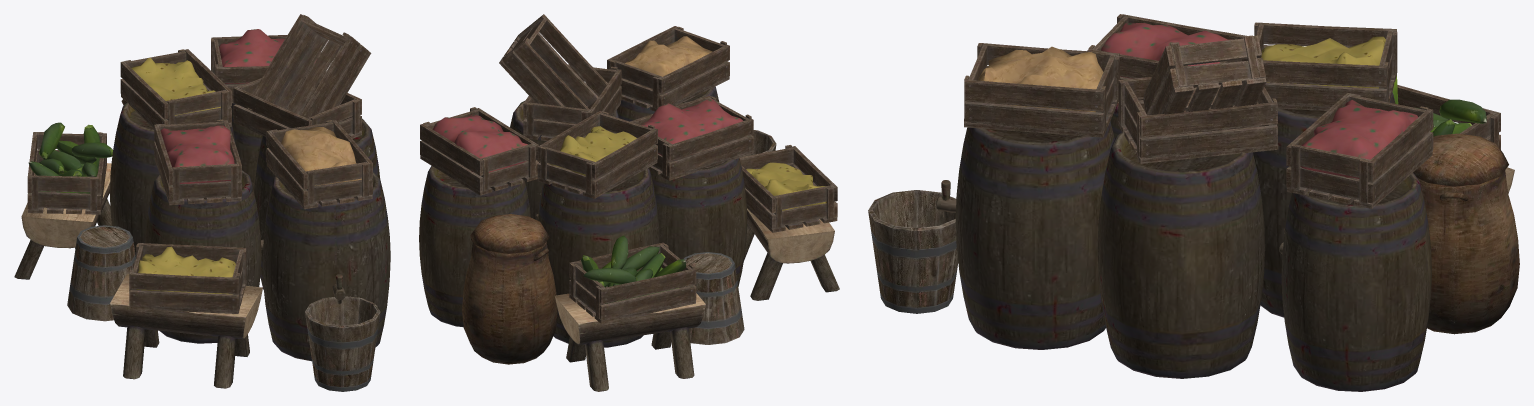
Rendered from SHO_Stand_Food_Small_A-transformed.glb.
3 views of the same model, side by side, from view 1: azimuth 30°, elevation 25°; view 2: azimuth 150°, elevation 25°; view 3: azimuth 270°, elevation 25° (orthographic). The views are drawn at different scales.
Parts seen in each view (by area): view 1: default; view 2: default; view 3: default.
Part boxes in pixels (bbox=[...]): default: bbox=[14, 14, 390, 391]; default: bbox=[419, 14, 839, 391]; default: bbox=[868, 14, 1519, 391].
Size of the model in its own units: 1.64 by 1.24 by 2.25.
Materials: 6 (6 with a texture image).
